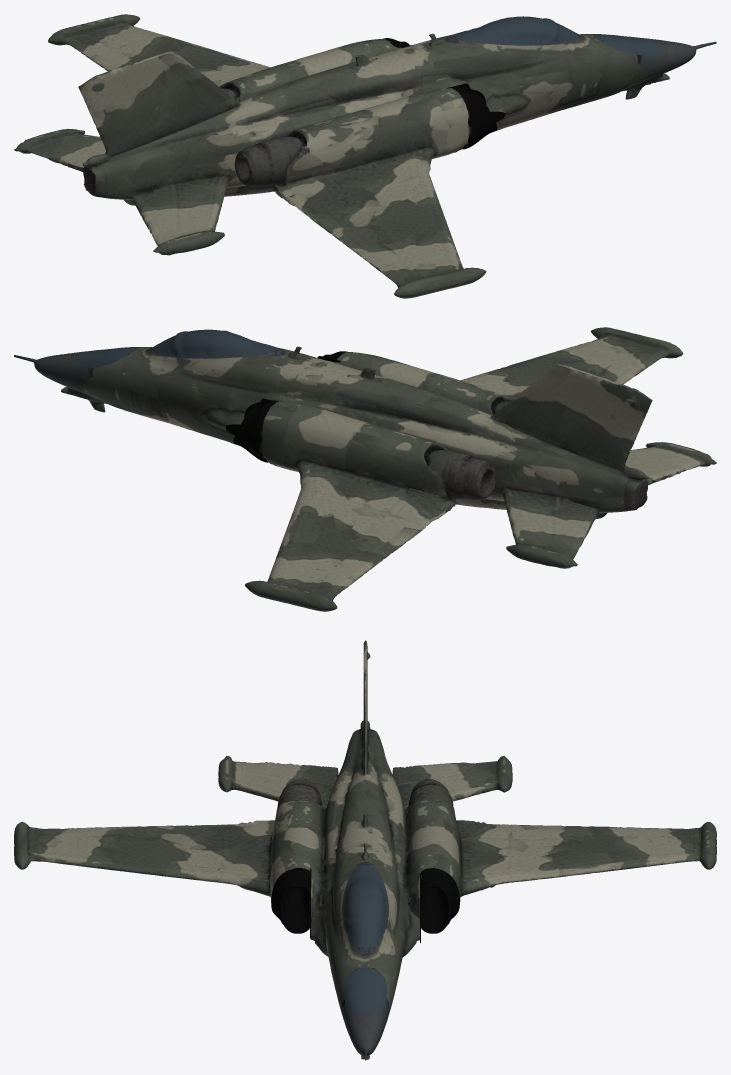
Rendered from fh_hangar_attacker_2.glb.
3 views of the same model, one above another, from view 1: azimuth 30°, elevation 25°; view 2: azimuth 150°, elevation 25°; view 3: azimuth 270°, elevation 25° (orthographic).
Parts seen in each view (by area): view 1: fh_hangar_attacker_2, flap_r, slat_r, slat_l; view 2: fh_hangar_attacker_2, flap_l, slat_l, slat_r; view 3: fh_hangar_attacker_2, slat_r, slat_l, flap_l, flap_r.
Part boxes in pixels (left/top/right/bottom): fh_hangar_attacker_2: left=14, top=14, right=716, bottom=298; flap_r: left=286, top=185, right=375, bottom=251; slat_r: left=412, top=178, right=461, bottom=265; slat_l: left=128, top=26, right=270, bottom=70; fh_hangar_attacker_2: left=14, top=327, right=716, bottom=611; flap_l: left=355, top=498, right=444, bottom=564; slat_l: left=269, top=491, right=318, bottom=578; slat_r: left=460, top=340, right=602, bottom=383; fh_hangar_attacker_2: left=14, top=640, right=716, bottom=1060; slat_r: left=43, top=853, right=219, bottom=882; slat_l: left=511, top=853, right=687, bottom=882; flap_l: left=475, top=821, right=606, bottom=836; flap_r: left=124, top=821, right=255, bottom=836.
Size of the model in its own units: 1 by 0.2466 by 0.9616.
3 materials, 1 textured.
